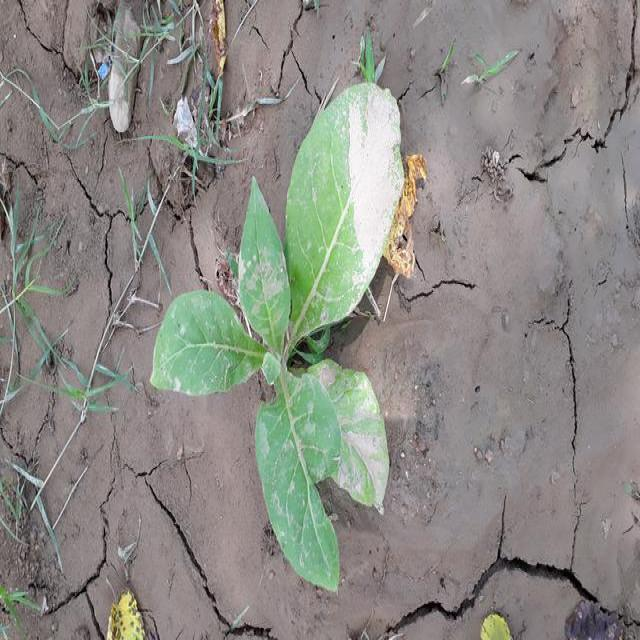crop: (158, 84, 404, 590)
